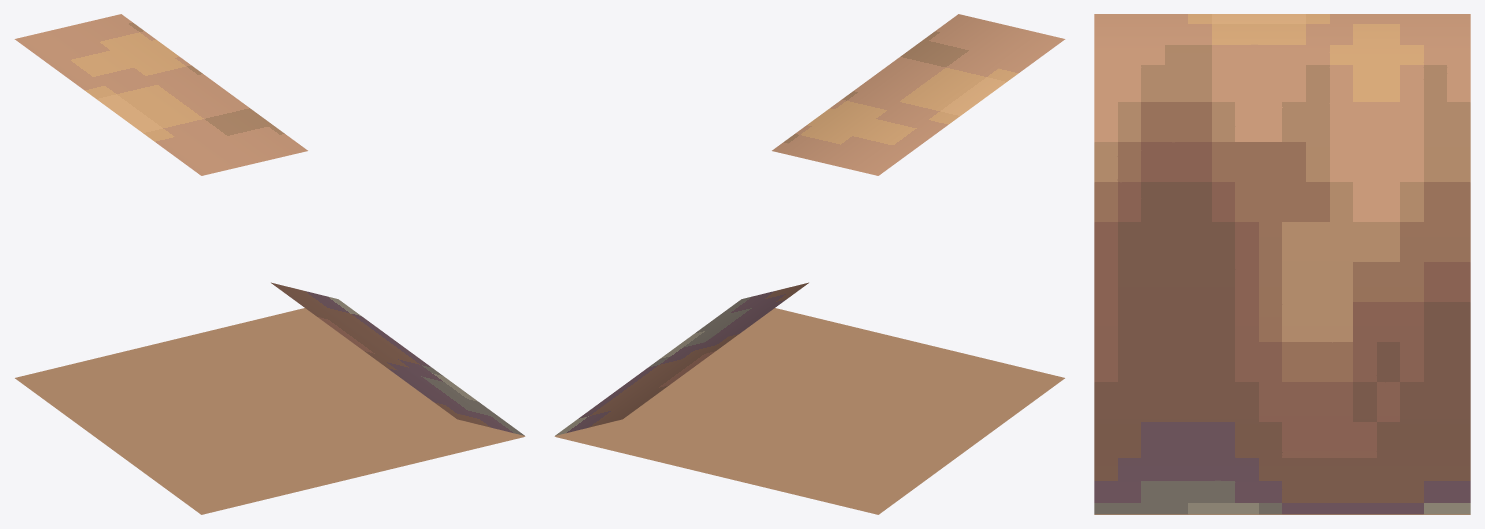
3 renders of one model, left to right at view 1: azimuth 30°, elevation 25°; view 2: azimuth 150°, elevation 25°; view 3: azimuth 270°, elevation 25°, orthographic.
Bounding box in the file's own units: 1 × 1 × 1.
1 material, 1 textured.
